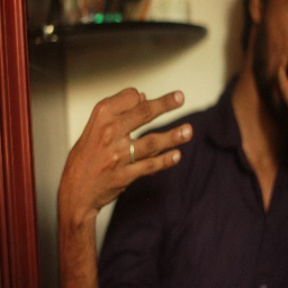K: (60, 89, 195, 197)
